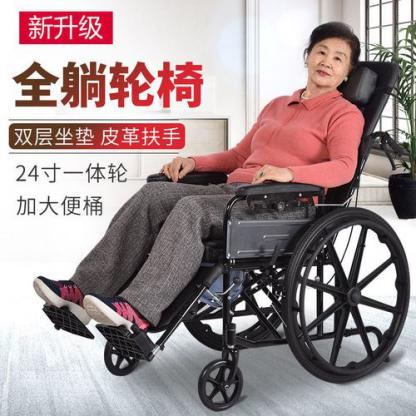wheelchair: (54, 27, 415, 413)
